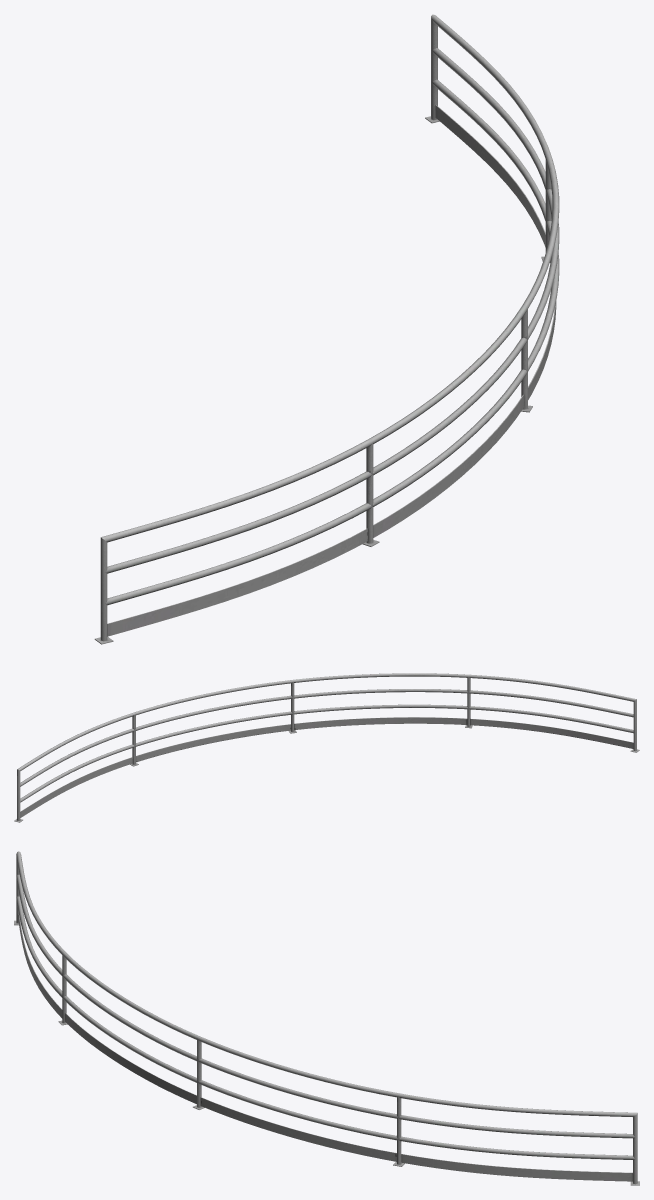
3 renders of one model, top to bottom at view 1: azimuth 30°, elevation 25°; view 2: azimuth 150°, elevation 25°; view 3: azimuth 270°, elevation 25°, orthographic. The views are drawn at different scales.
Parts seen in each view (by area): view 1: body0_model0_lod0_mesh0; view 2: body0_model0_lod0_mesh0; view 3: body0_model0_lod0_mesh0.
Boxes of the visible parts, x1,y1,x2,y2 form: body0_model0_lod0_mesh0: [94, 14, 559, 644]; body0_model0_lod0_mesh0: [14, 673, 639, 822]; body0_model0_lod0_mesh0: [14, 851, 639, 1185].
Bounding box in the file's own units: 264 × 33 × 264.
1 material, 1 textured.
